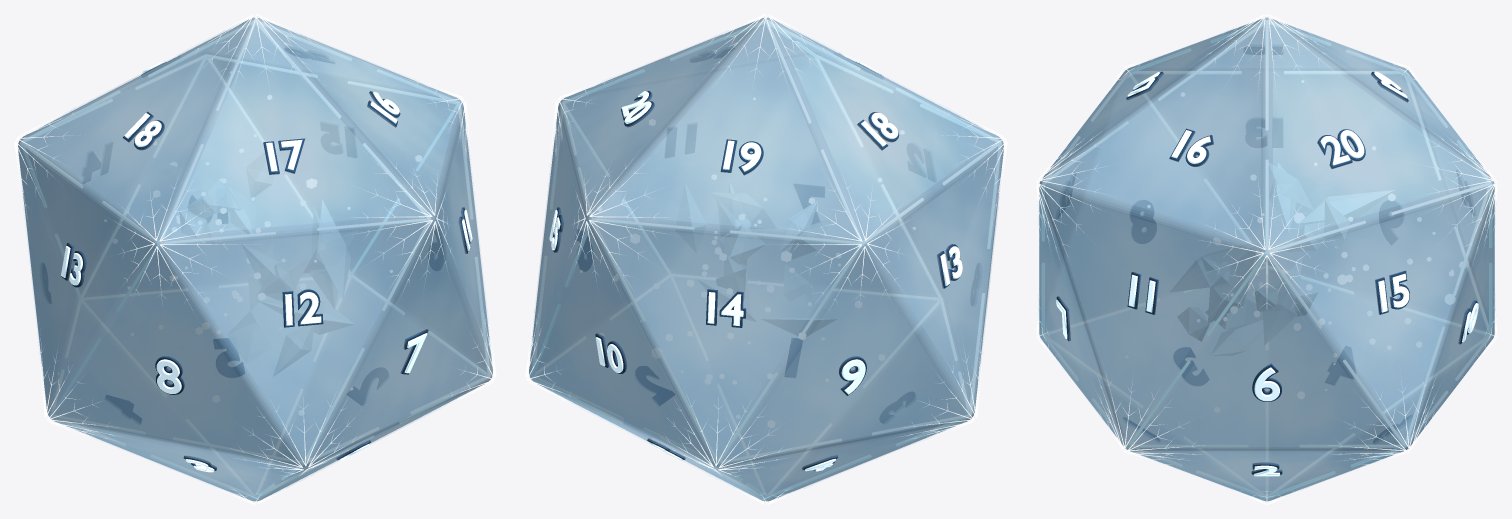
Rendered from D20_二十面骰_月白冰晶_baked.glb.
3 renders of one model, left to right at view 1: azimuth 30°, elevation 25°; view 2: azimuth 150°, elevation 25°; view 3: azimuth 270°, elevation 25°, orthographic.
Parts seen in each view (by area): view 1: D20_Body_20_Faces, D20_Continuous_Frost_Gradient_v3, D20_Moonwhite_Broken_Ice_Seam, D20_Floating_Ice_Shards, D20_Every_Face_Vertex_Frost_v6, D20_Floating_Frost_Motes, Face_15_Number_15_Dark_Ice_Back_v7, Face_05_Number_5_Dark_Ice_Back_v7, Face_12_Number_12, Face_12_Number_12_Dark_Ice_Back_v7, Face_08_Number_8, Face_18_Number_18 (+1 smaller); view 2: D20_Body_20_Faces, D20_Continuous_Frost_Gradient_v3, D20_Moonwhite_Broken_Ice_Seam, D20_Floating_Ice_Shards, D20_Every_Face_Vertex_Frost_v6, D20_Floating_Frost_Motes, Face_19_Number_19, Face_14_Number_14, Face_18_Number_18, Face_11_Number_11_Dark_Ice_Back_v7, Face_02_Number_2_Dark_Ice_Back_v7, Face_14_Number_14_Dark_Ice_Back_v7 (+1 smaller); view 3: D20_Body_20_Faces, D20_Continuous_Frost_Gradient_v3, D20_Moonwhite_Broken_Ice_Seam, D20_Floating_Ice_Shards, D20_Every_Face_Vertex_Frost_v6, D20_Floating_Frost_Motes, Face_08_Number_8_Dark_Ice_Back_v7, Face_13_Number_13_Dark_Ice_Back_v7, Face_20_Number_20, Face_09_Number_9_Dark_Ice_Back_v7, Face_03_Number_3_Dark_Ice_Back_v7, Face_20_Number_20_Dark_Ice_Back_v7 (+5 smaller).
Boxes of the visible parts, bbox=[...] form: D20_Body_20_Faces: bbox=[18, 17, 492, 501]; D20_Continuous_Frost_Gradient_v3: bbox=[26, 35, 486, 492]; D20_Moonwhite_Broken_Ice_Seam: bbox=[20, 20, 490, 498]; D20_Floating_Ice_Shards: bbox=[164, 141, 357, 376]; D20_Every_Face_Vertex_Frost_v6: bbox=[14, 14, 496, 504]; D20_Floating_Frost_Motes: bbox=[104, 71, 421, 415]; Face_15_Number_15_Dark_Ice_Back_v7: bbox=[321, 123, 356, 157]; Face_05_Number_5_Dark_Ice_Back_v7: bbox=[213, 338, 244, 376]; Face_12_Number_12: bbox=[285, 292, 321, 325]; Face_12_Number_12_Dark_Ice_Back_v7: bbox=[282, 289, 323, 327]; Face_08_Number_8: bbox=[156, 359, 181, 393]; Face_18_Number_18: bbox=[124, 113, 161, 146]; D20_Body_20_Faces: bbox=[529, 17, 1003, 501]; D20_Continuous_Frost_Gradient_v3: bbox=[537, 38, 997, 490]; D20_Moonwhite_Broken_Ice_Seam: bbox=[531, 20, 1001, 498]; D20_Floating_Ice_Shards: bbox=[675, 182, 836, 336]; D20_Every_Face_Vertex_Frost_v6: bbox=[525, 14, 1007, 504]; D20_Floating_Frost_Motes: bbox=[580, 98, 915, 427]; Face_19_Number_19: bbox=[723, 140, 761, 171]; Face_14_Number_14: bbox=[707, 292, 743, 325]; Face_18_Number_18: bbox=[861, 112, 898, 146]; Face_11_Number_11_Dark_Ice_Back_v7: bbox=[665, 123, 696, 157]; Face_02_Number_2_Dark_Ice_Back_v7: bbox=[636, 366, 674, 404]; Face_14_Number_14_Dark_Ice_Back_v7: bbox=[706, 289, 746, 327]; D20_Body_20_Faces: bbox=[1039, 17, 1494, 501]; D20_Continuous_Frost_Gradient_v3: bbox=[1039, 33, 1494, 489]; D20_Moonwhite_Broken_Ice_Seam: bbox=[1042, 20, 1491, 498]; D20_Floating_Ice_Shards: bbox=[1170, 163, 1394, 355]; D20_Every_Face_Vertex_Frost_v6: bbox=[1036, 14, 1497, 504]; D20_Floating_Frost_Motes: bbox=[1126, 80, 1466, 412]; Face_08_Number_8_Dark_Ice_Back_v7: bbox=[1131, 200, 1156, 243]; Face_13_Number_13_Dark_Ice_Back_v7: bbox=[1246, 118, 1282, 147]; Face_20_Number_20: bbox=[1320, 130, 1364, 165]; Face_09_Number_9_Dark_Ice_Back_v7: bbox=[1379, 200, 1403, 244]; Face_03_Number_3_Dark_Ice_Back_v7: bbox=[1174, 347, 1208, 385]; Face_20_Number_20_Dark_Ice_Back_v7: bbox=[1317, 129, 1365, 168].
Bounding box in the file's own units: 5.41 × 6.01 × 5.15.
Materials: 11 (2 with a texture image).
